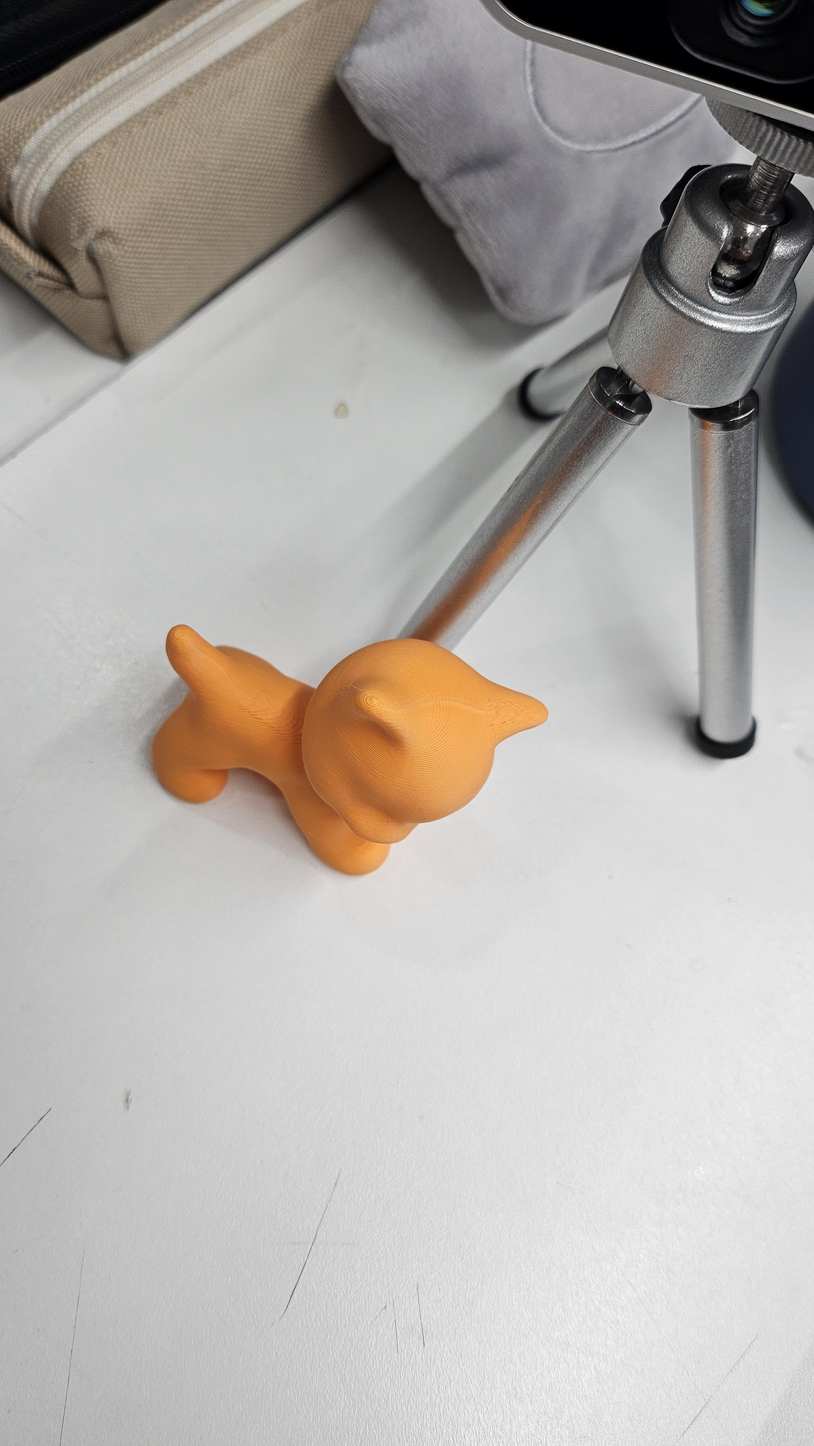cat: (148, 618, 553, 882)
